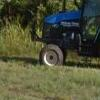Tractor: (25, 9, 100, 67)
